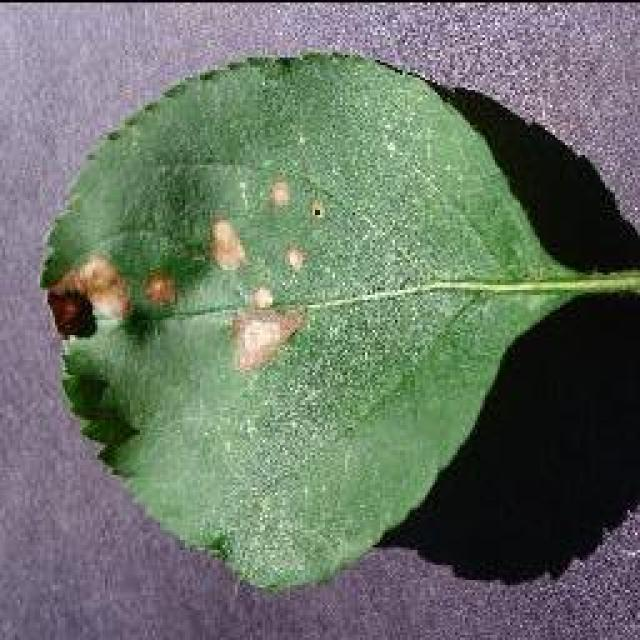apple black rot: (35, 48, 637, 592)
